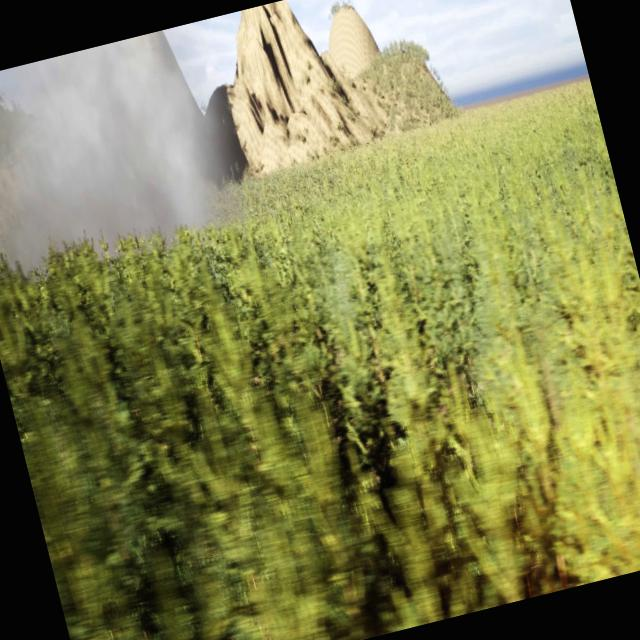smoke: (0, 20, 248, 287)
